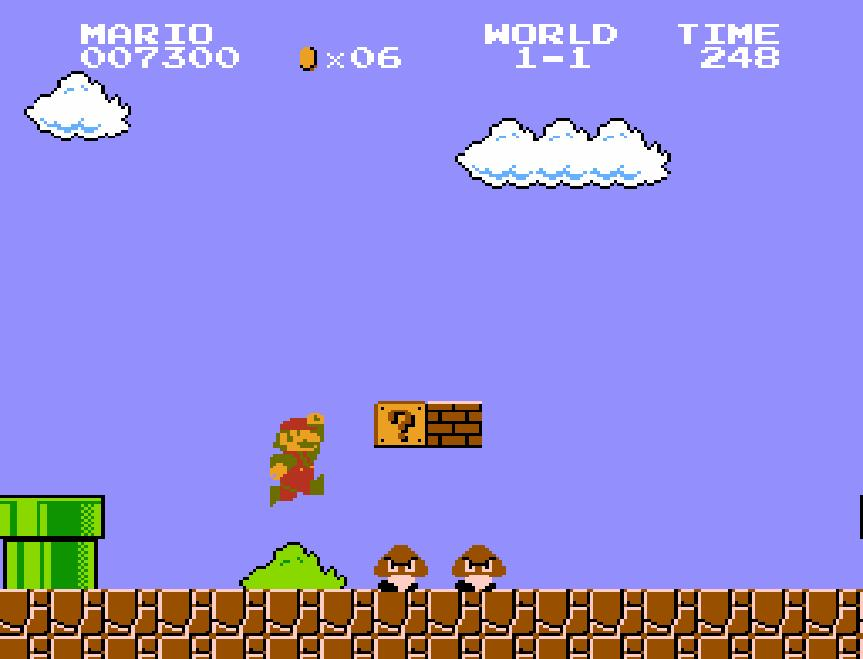big_mario: (267, 410, 325, 508)
